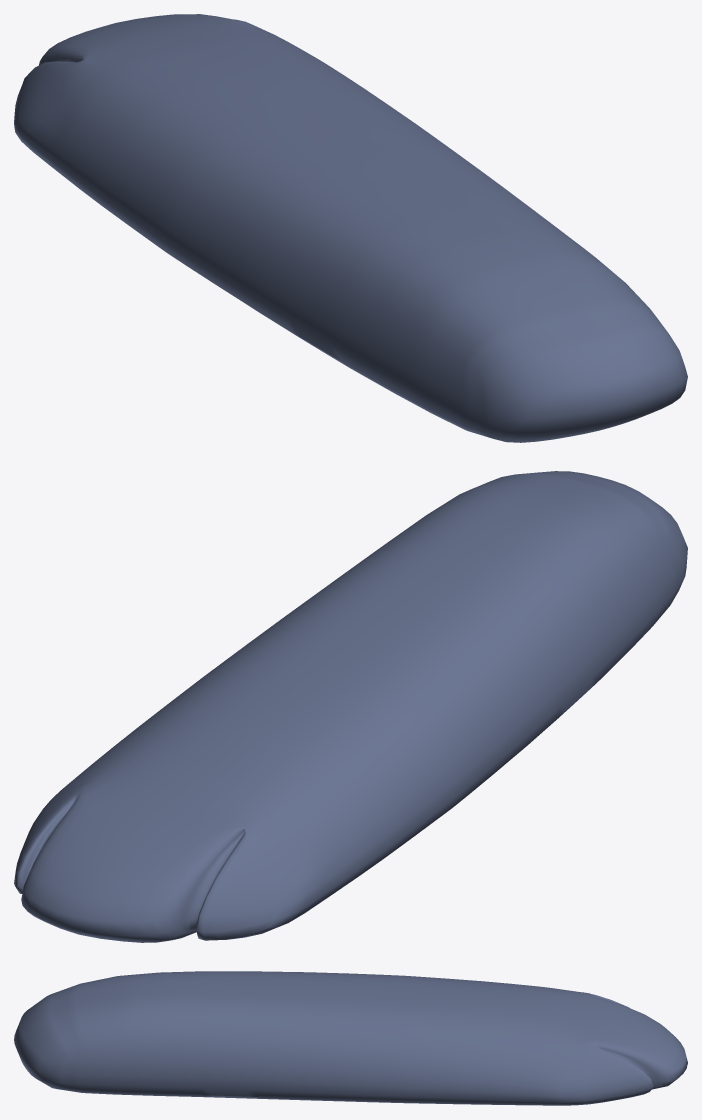
Rendered from handsrabbit.fbx.
The picture shows the model from 3 angles, top to bottom: view 1: azimuth 30°, elevation 25°; view 2: azimuth 150°, elevation 25°; view 3: azimuth 270°, elevation 25°; orthographic projection. The views are drawn at different scales.
Parts seen in each view (by area): view 1: pCube2; view 2: pCube2; view 3: pCube2.
Part boxes in pixels (box(x1,y1,x2,y2)): pCube2: box(14, 14, 687, 442); pCube2: box(14, 471, 687, 942); pCube2: box(14, 971, 687, 1105).
Size of the model in its own units: 2.24 by 0.9588 by 7.23.
